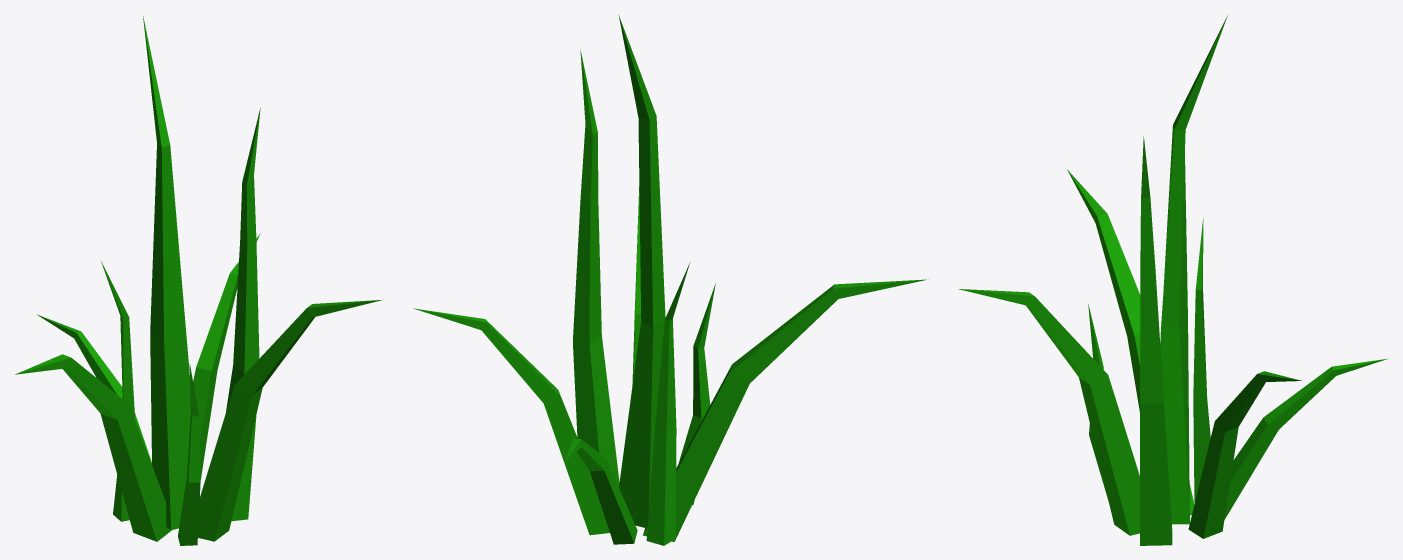
Rendered from Pasto.fbx.
3 views of the same model, side by side, from view 1: azimuth 30°, elevation 25°; view 2: azimuth 150°, elevation 25°; view 3: azimuth 270°, elevation 25° (orthographic). The views are drawn at different scales.
Parts seen in each view (by area): view 1: Pasto1; view 2: Pasto1; view 3: Pasto1.
Part boxes in pixels (<box>): Pasto1: <box>15,16,383,545</box>; Pasto1: <box>413,15,928,545</box>; Pasto1: <box>958,15,1387,545</box>.
Size of the model in its own units: 28.89 by 37.91 by 29.13.
